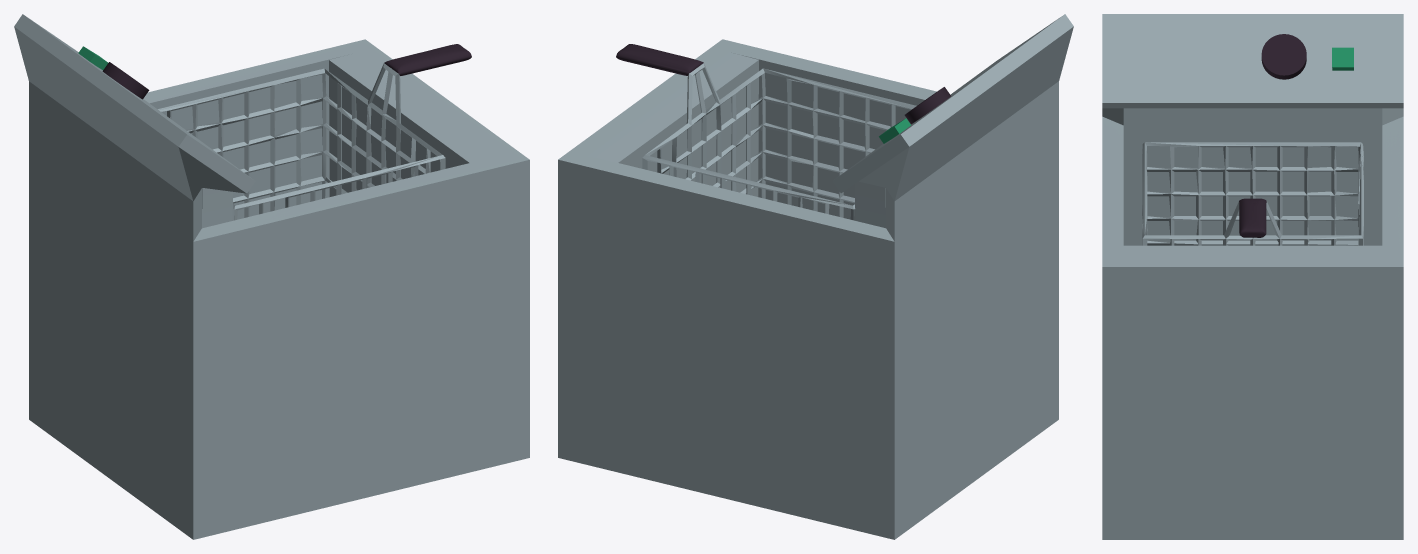
The model's file is frytkownica.gltf.
3 renders of one model, left to right at view 1: azimuth 30°, elevation 25°; view 2: azimuth 150°, elevation 25°; view 3: azimuth 270°, elevation 25°, orthographic. The views are drawn at different scales.
Parts seen in each view (by area): view 1: Cube.003, Cube; view 2: Cube.003, Cube; view 3: Cube.003, Cube.
Boxes of the visible parts, <box> form: Cube.003: <box>14,14,529,539</box>; Cube: <box>158,44,471,220</box>; Cube.003: <box>558,14,1073,539</box>; Cube: <box>616,44,916,220</box>; Cube.003: <box>1102,14,1403,539</box>; Cube: <box>1142,142,1363,245</box>.
Bounding box in the file's own units: 2.59 × 2.73 × 2.
5 materials, 5 textured.
